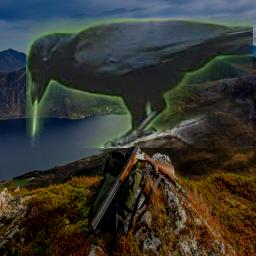Crow: (26, 18, 253, 148)
